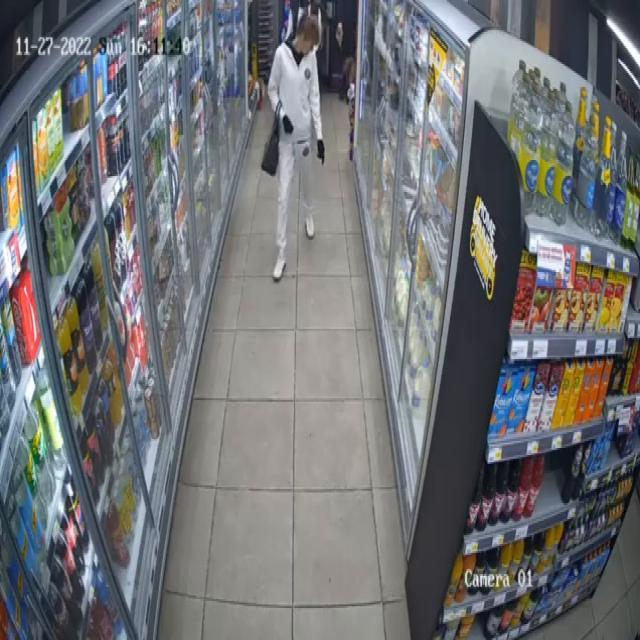bags: (262, 101, 280, 174)
hands: (317, 139, 324, 164), (284, 116, 292, 132)
person: (268, 16, 324, 279)
